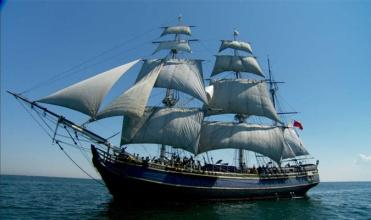fanchuan: (6, 18, 321, 197)
